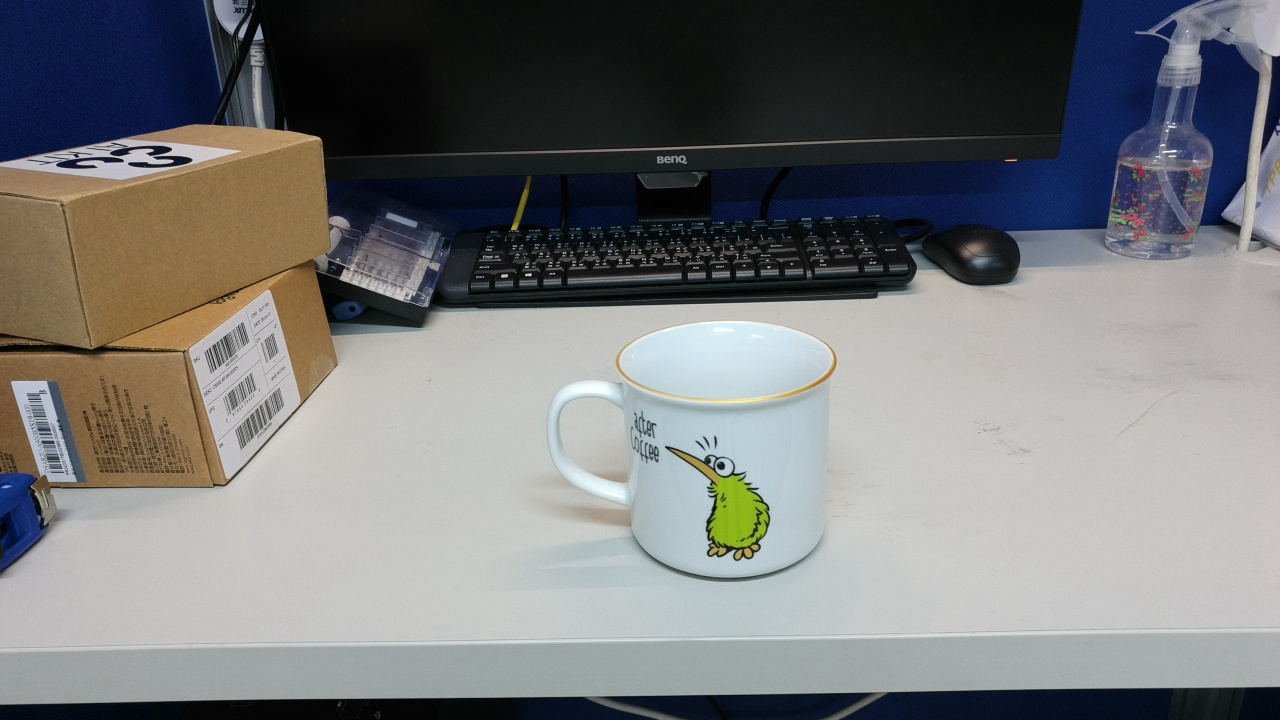circle: (756, 544, 943, 698)
